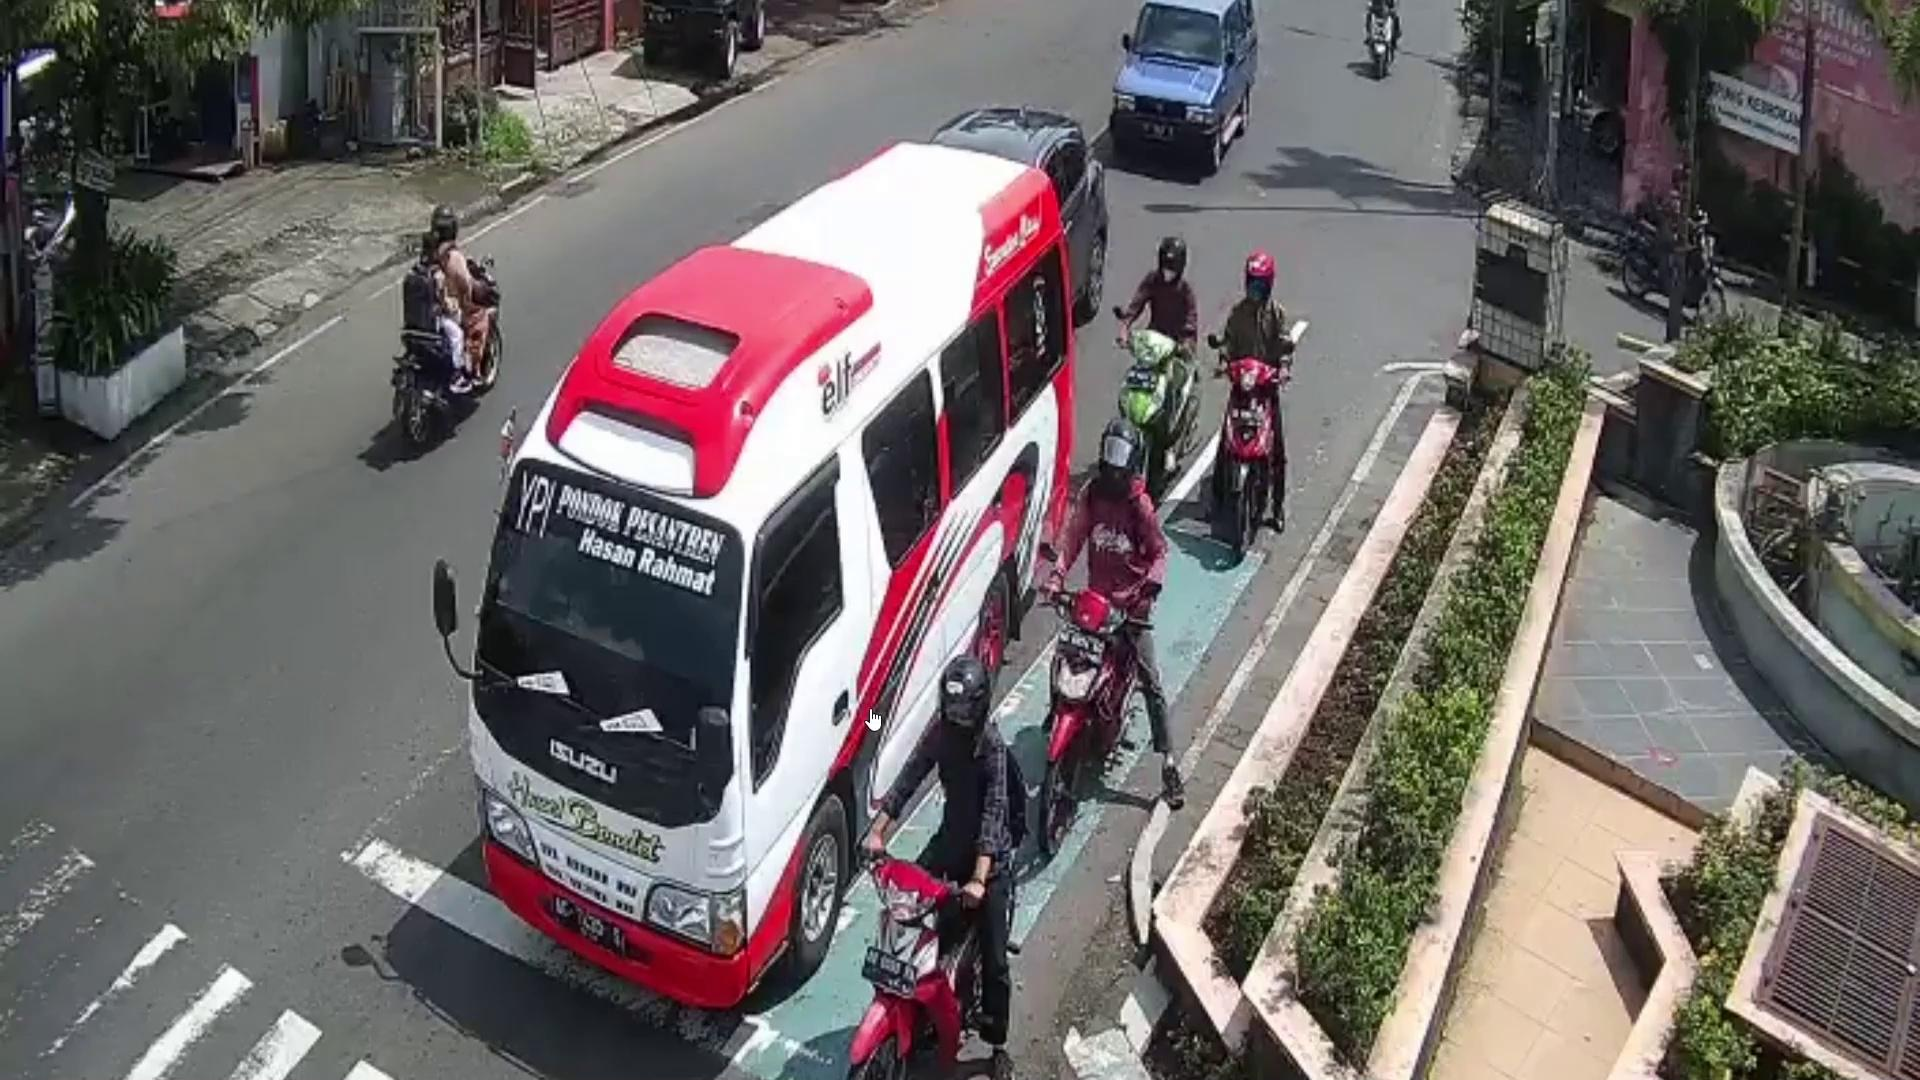bus: (471, 138, 1073, 1002)
car: (938, 105, 1110, 310), (1110, 0, 1261, 171)
motorbike: (856, 847, 997, 1080), (1047, 585, 1138, 848), (381, 257, 508, 443), (1124, 330, 1199, 504), (1618, 208, 1730, 315), (1228, 365, 1280, 555), (1362, 8, 1406, 82)
